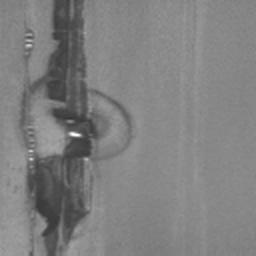Slag inclusion: (18, 0, 134, 253)
